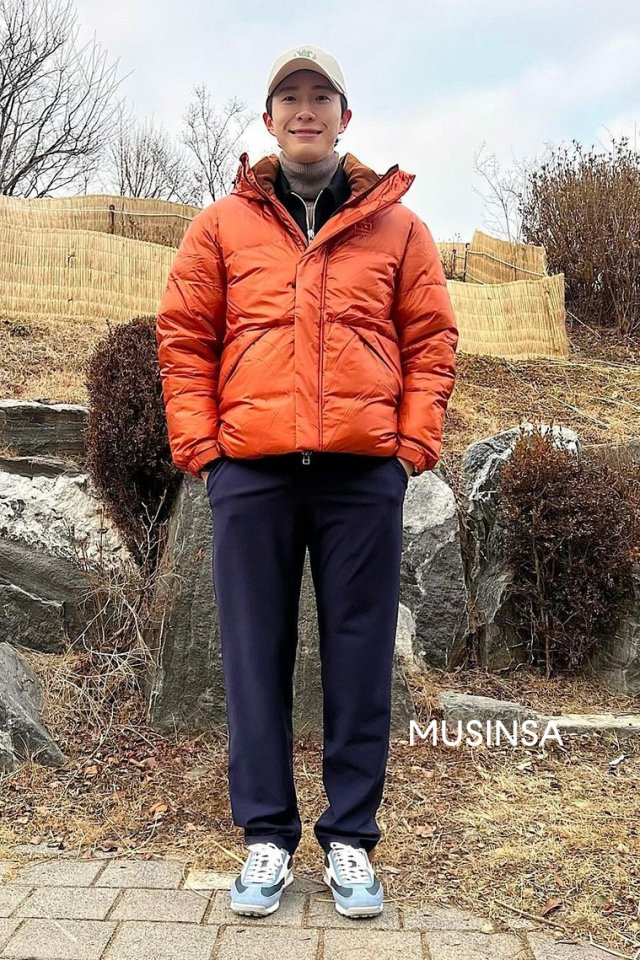Bubble jacket: (148, 151, 456, 478)
Cap: (262, 43, 349, 98)
Pants: (203, 451, 418, 865)
Shoes: (229, 839, 391, 919)
